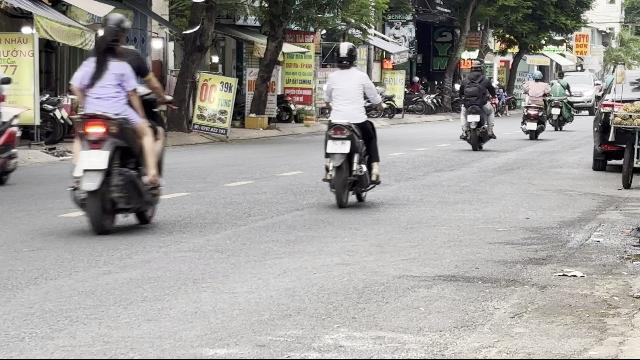helmet: (92, 27, 124, 63), (333, 41, 357, 69), (100, 12, 130, 34)
licenseplate: (78, 150, 108, 168), (327, 140, 351, 152)
motorcyclist: (64, 11, 170, 234), (317, 41, 385, 205)
